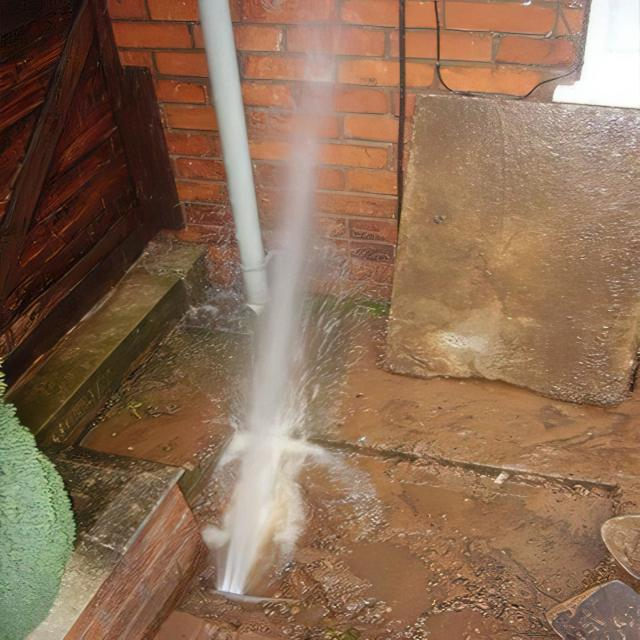leak: (207, 10, 388, 597)
